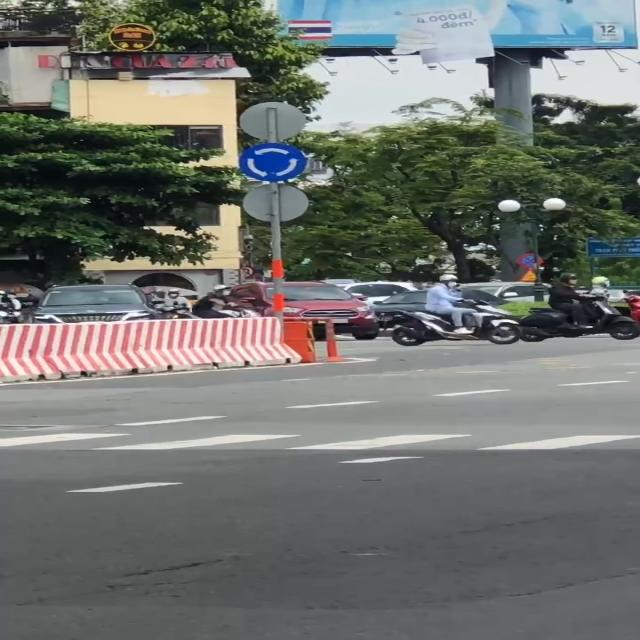Bien bao noi giao nhau chay theo vong xuyen: (229, 139, 313, 185)
